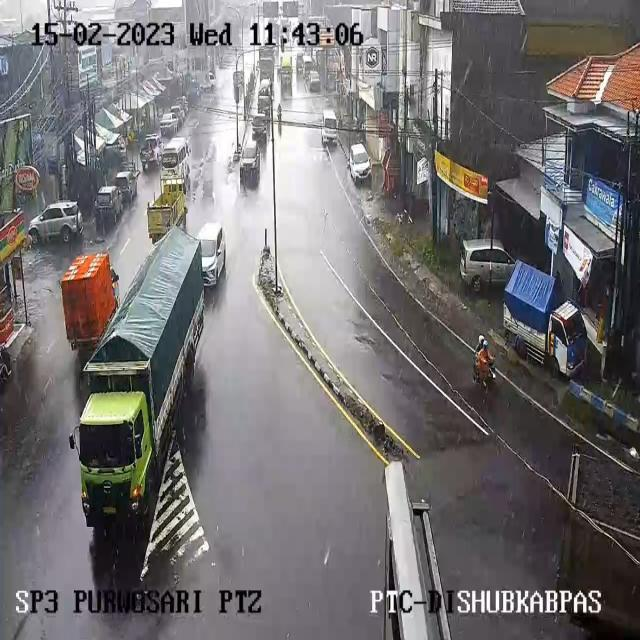Bus: (160, 136, 193, 184)
Car: (466, 240, 520, 289), (27, 202, 83, 245), (194, 223, 224, 285), (94, 186, 125, 226), (239, 143, 261, 187), (114, 168, 140, 204), (139, 134, 163, 170), (348, 143, 370, 181), (322, 108, 338, 144), (160, 112, 179, 136), (251, 114, 268, 139), (170, 105, 187, 126), (306, 70, 321, 92), (201, 72, 216, 93), (302, 54, 313, 75)
Motorbike: (472, 334, 499, 401), (276, 102, 282, 122)
Truck: (77, 280, 199, 540), (504, 266, 588, 380), (60, 258, 115, 329), (148, 172, 188, 243), (258, 47, 276, 80), (280, 54, 294, 92), (256, 84, 272, 110)
